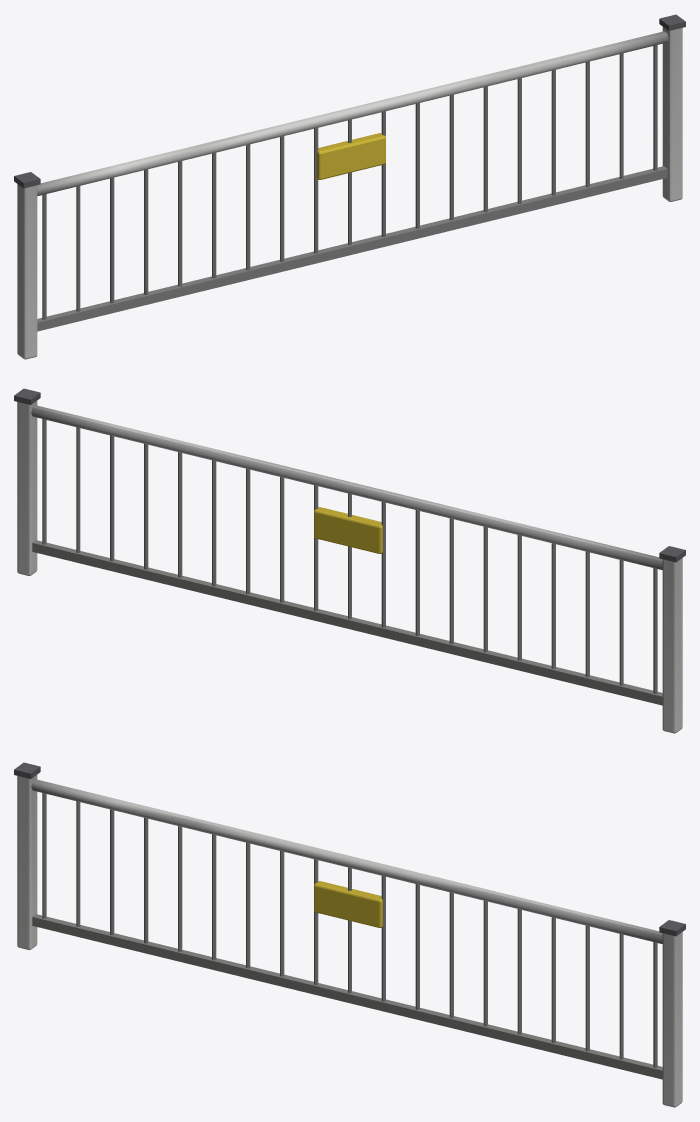
File: st_rail.glb
3 views of the same model, one above another, from view 1: azimuth 30°, elevation 25°; view 2: azimuth 150°, elevation 25°; view 3: azimuth 330°, elevation 25° (orthographic).
Visible parts, largest first — view 1: body; view 2: body; view 3: body.
Boxes of the visible parts, x1,y1,x2,y2 form: body: [14, 14, 685, 359]; body: [14, 388, 685, 733]; body: [14, 762, 685, 1107].
Size of the model in its own units: 3.9 by 1 by 0.1.
